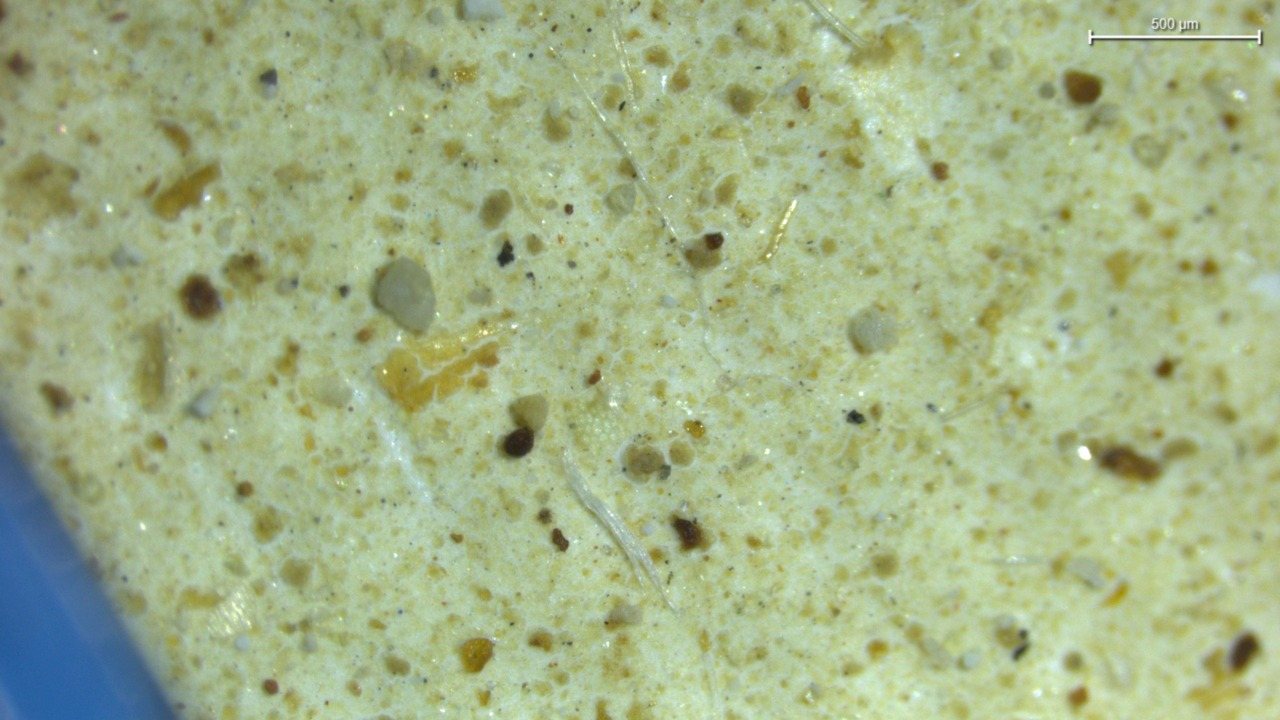microplastic_fragment: (372, 257, 436, 332), (848, 306, 899, 354), (605, 183, 636, 216)
